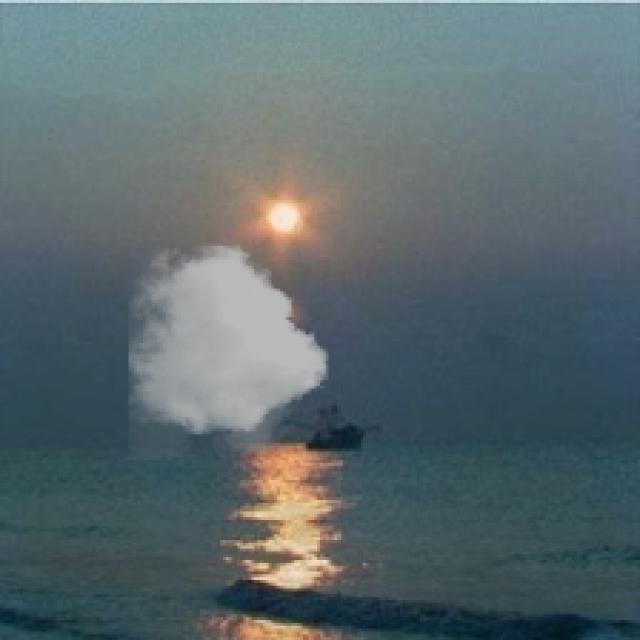Smoke: (128, 240, 328, 460)
